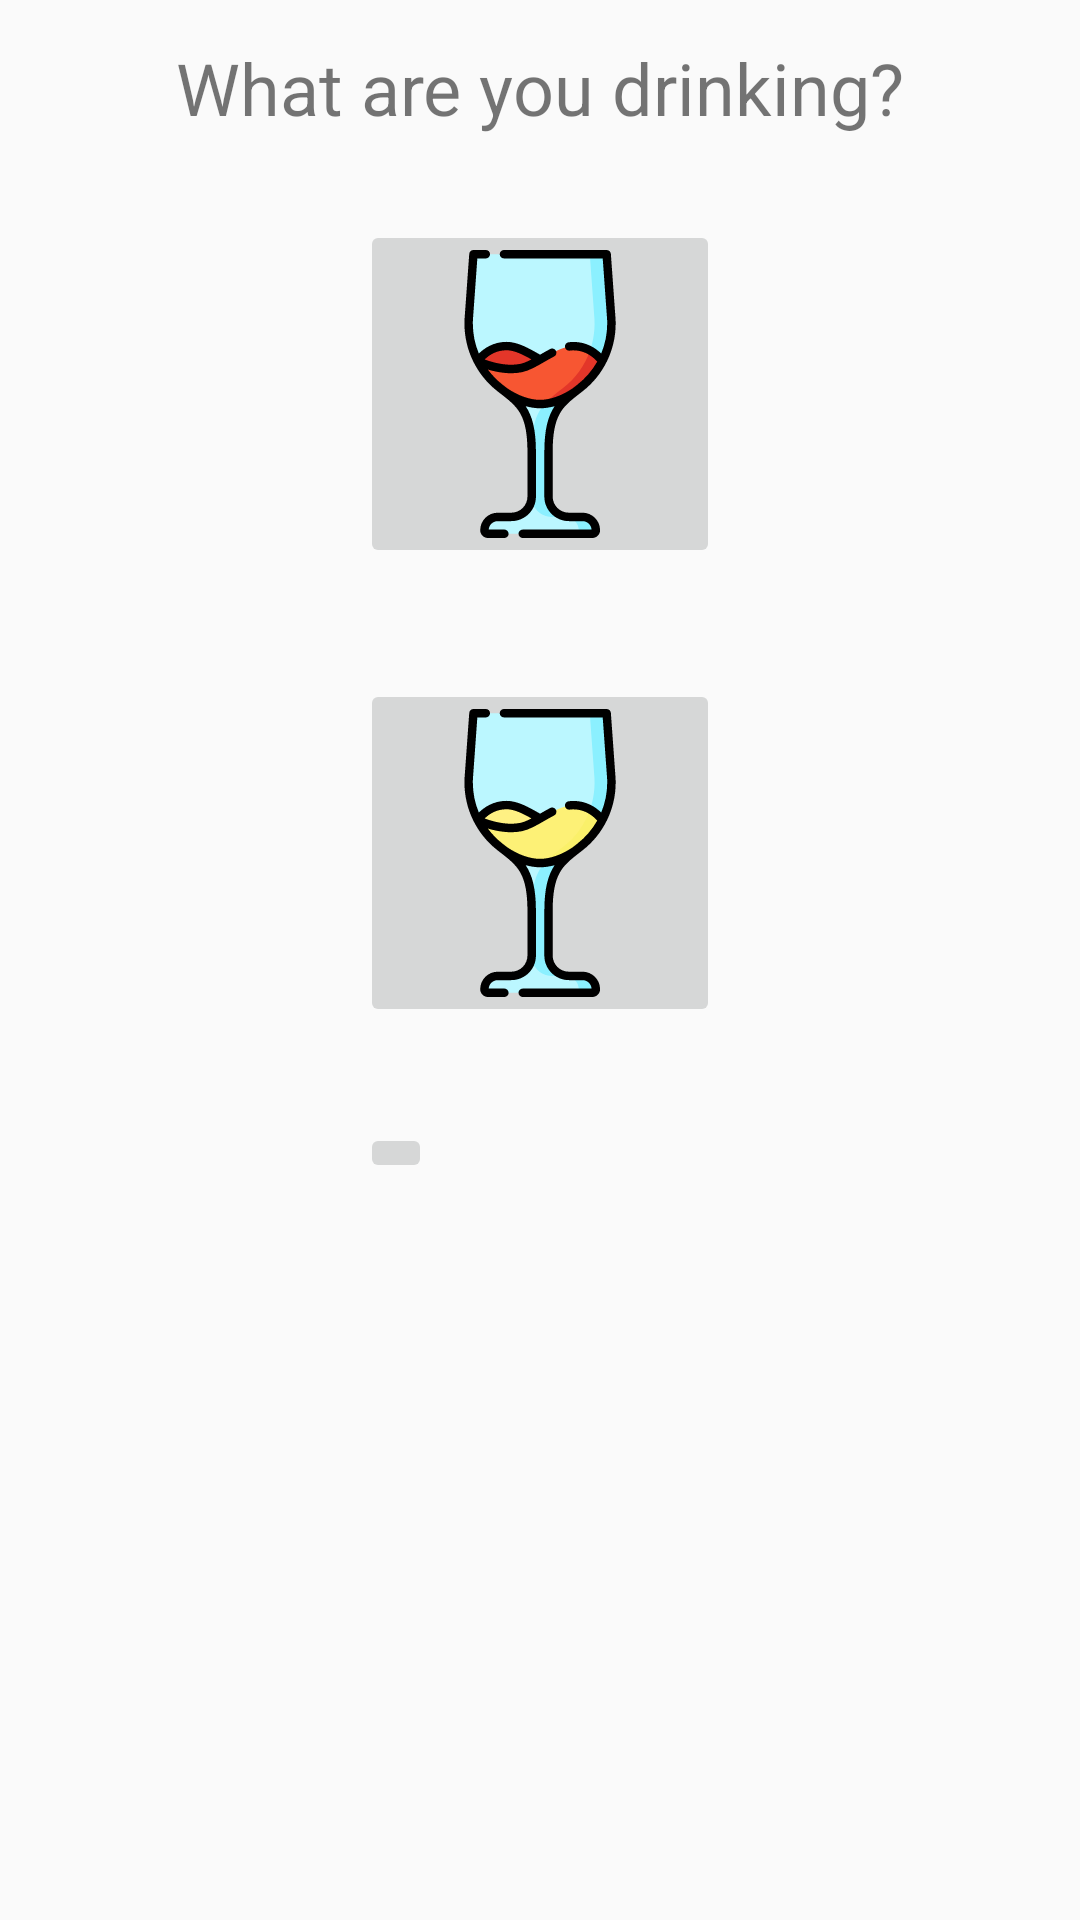

Icon bounding boxes for this 1080 × 1920 phone screenshot, format (x1, y1, x2, y2):
winetype redwine: (372, 238, 708, 550)
winetype whitewine: (372, 697, 708, 1009)
